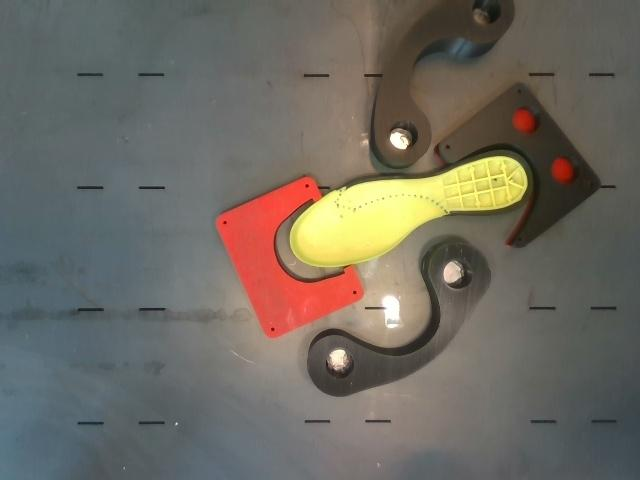shoes: (290, 153, 530, 266)
